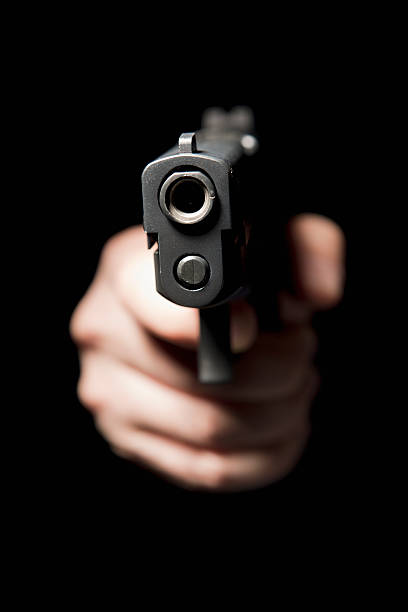pistol: (131, 97, 280, 390)
